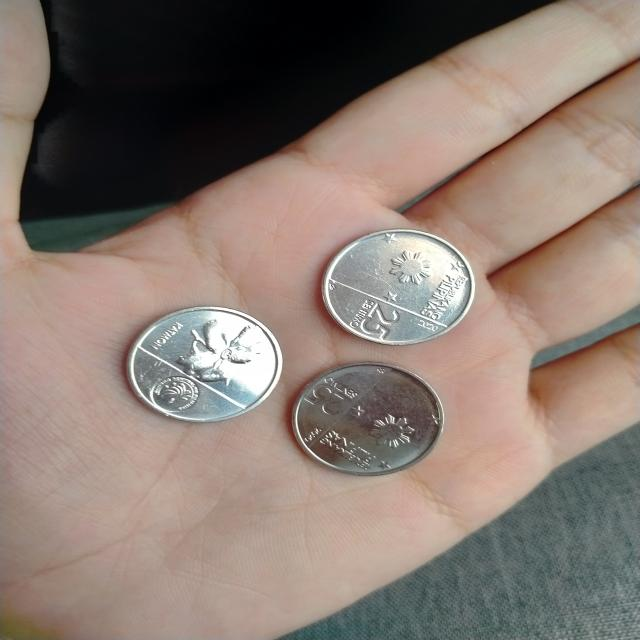25Cent_New_Back: (166, 309, 262, 387)
25Cent_New_Front: (347, 292, 405, 344), (306, 372, 362, 412)
